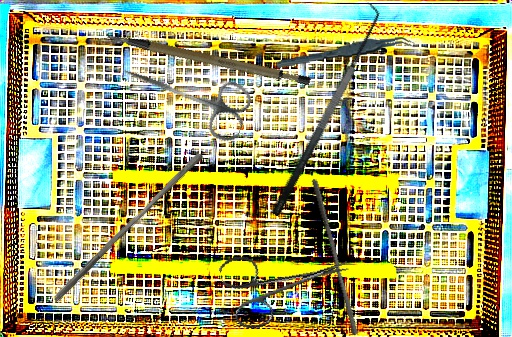Iris Scissors: (217, 228, 358, 334), (112, 45, 256, 146)
Pusher: (52, 146, 205, 309), (304, 177, 365, 337)
Scalpel Handle: (104, 1, 313, 113)
Spatula Surgical: (253, 0, 392, 218)
Tissue Forceps: (274, 35, 416, 69)
